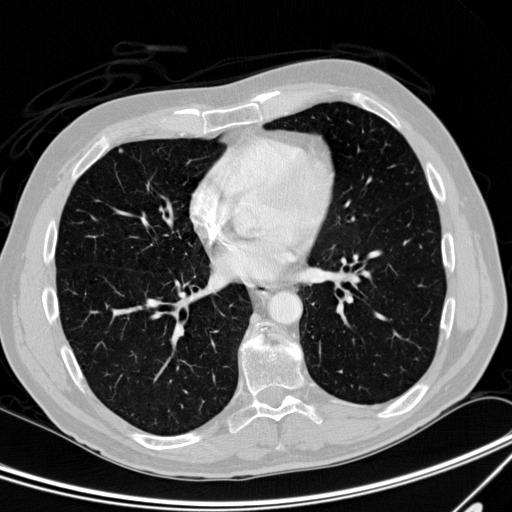nodule: (116, 146, 125, 155)
